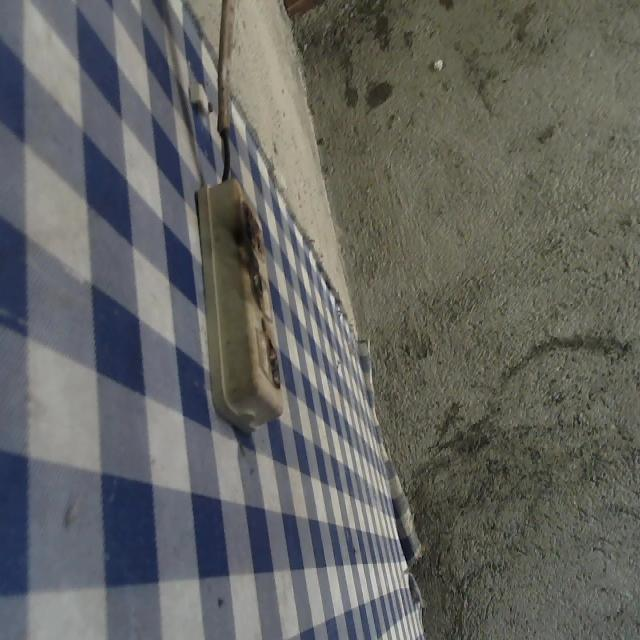-: (241, 199, 266, 256), (246, 264, 266, 309), (266, 338, 279, 390)
